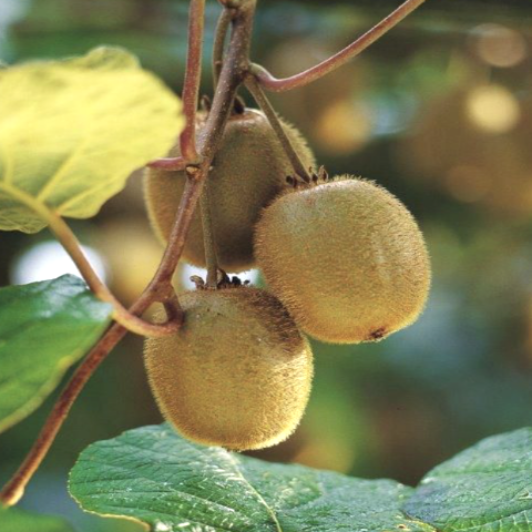kiwi: (129, 268, 341, 454), (145, 100, 332, 286), (248, 171, 445, 345)
